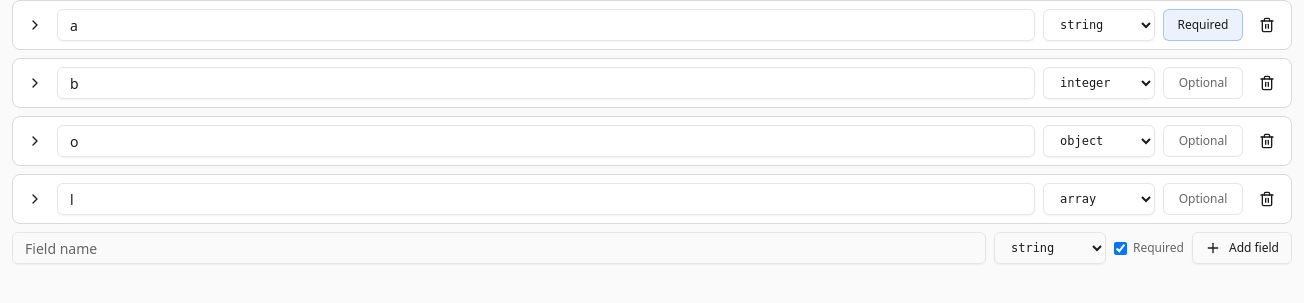
SchemaEditor › add_field_refuses_an_empty_or_duplicate_name_with_a_message
The width and height of the screenshot is (1304, 303).
Click the button "Add field". click: (1242, 248)
box: [1192, 232, 1292, 264]
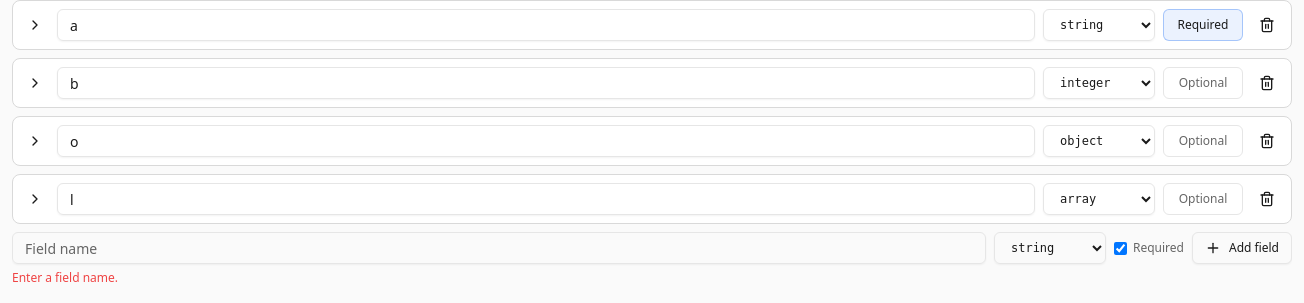
Expected: the message shows "Enter a field name", [12, 269, 118, 286]
Type "a" into the field labelled "Field name". click: (499, 248)
box: [12, 232, 986, 264]
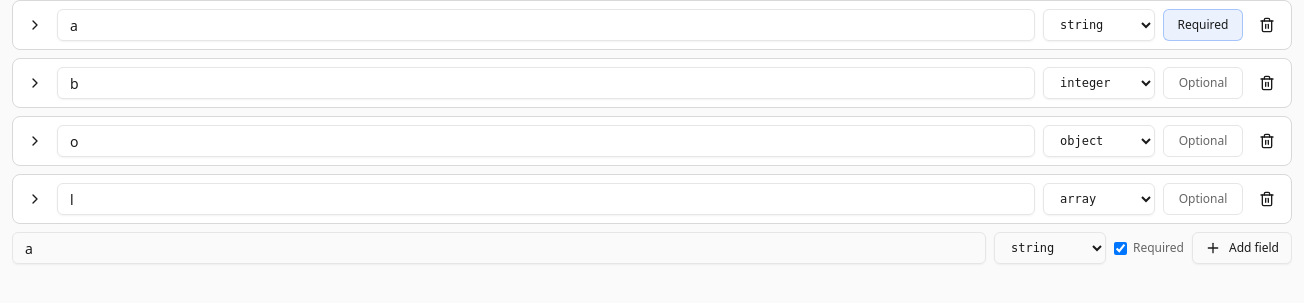
Click the button "Add field". click: (1242, 248)
box: [1192, 232, 1292, 264]
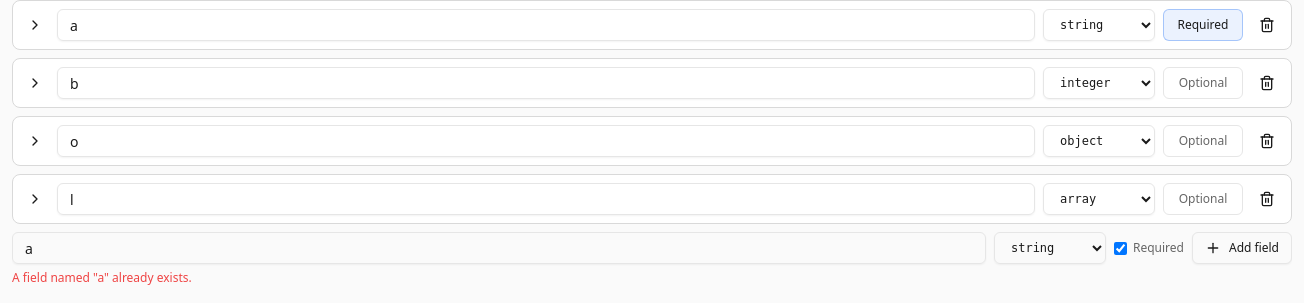
Expected: the message shows "A field named \"a\" already exists", [12, 269, 192, 286]
